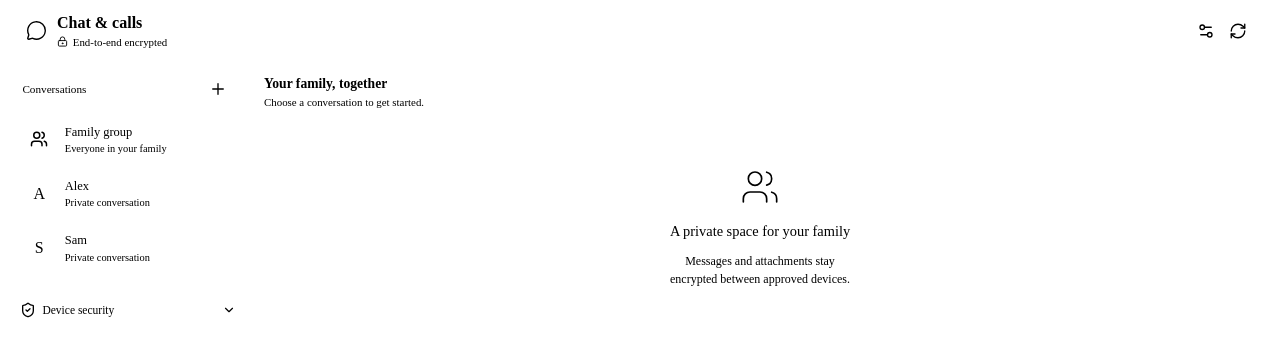
it: renders an optimistic message before chat delivery completes and logs UI timing
The image size is (1265, 342).
Step 1. Click the button "Family group Everyone in your family" → coordinates (128, 139), box [14,114,242,165]
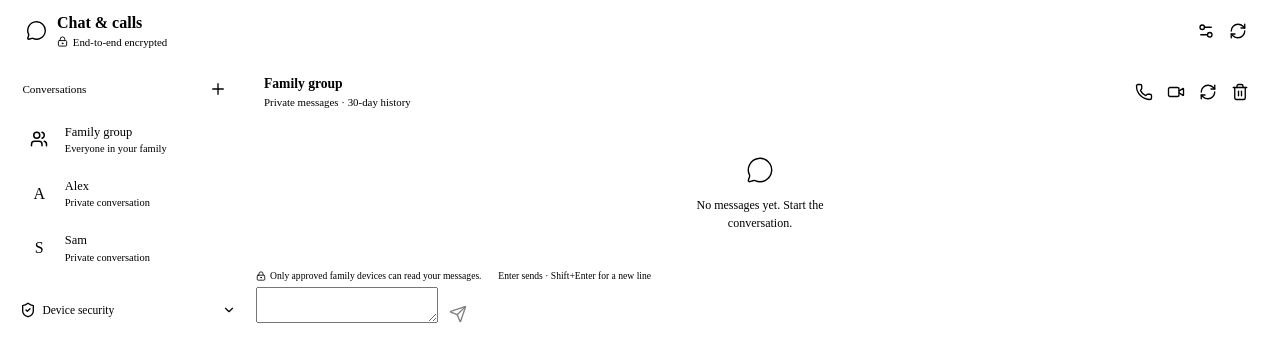
Step 2. Type "Shows before delivery" into the text box named "Message" → coordinates (347, 305), box [256,287,438,323]
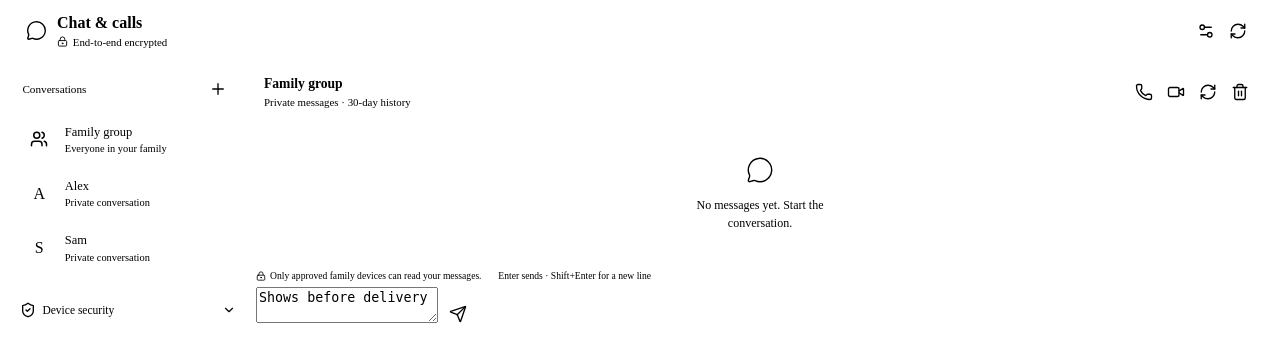
Step 3. Click the button named "Send encrypted message" → coordinates (458, 314), box [442,303,474,325]
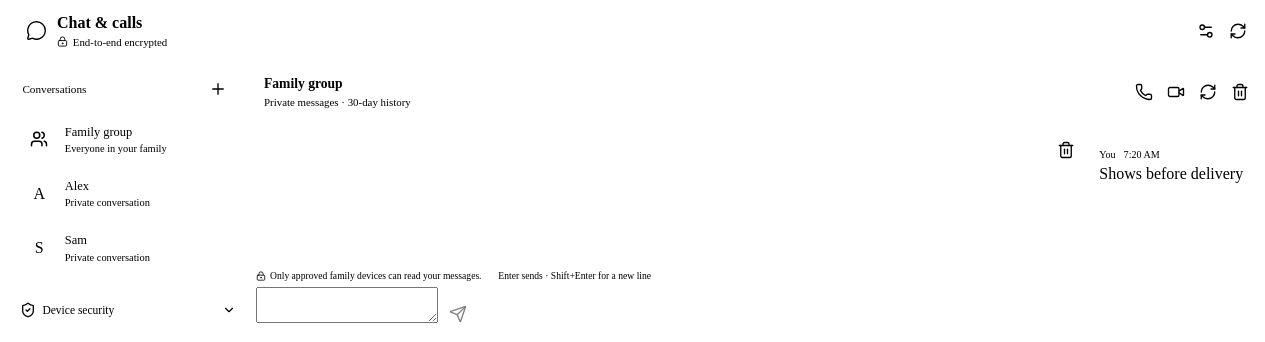
Result: the text "Shows before delivery" is shown at [1099,165,1243,183]
